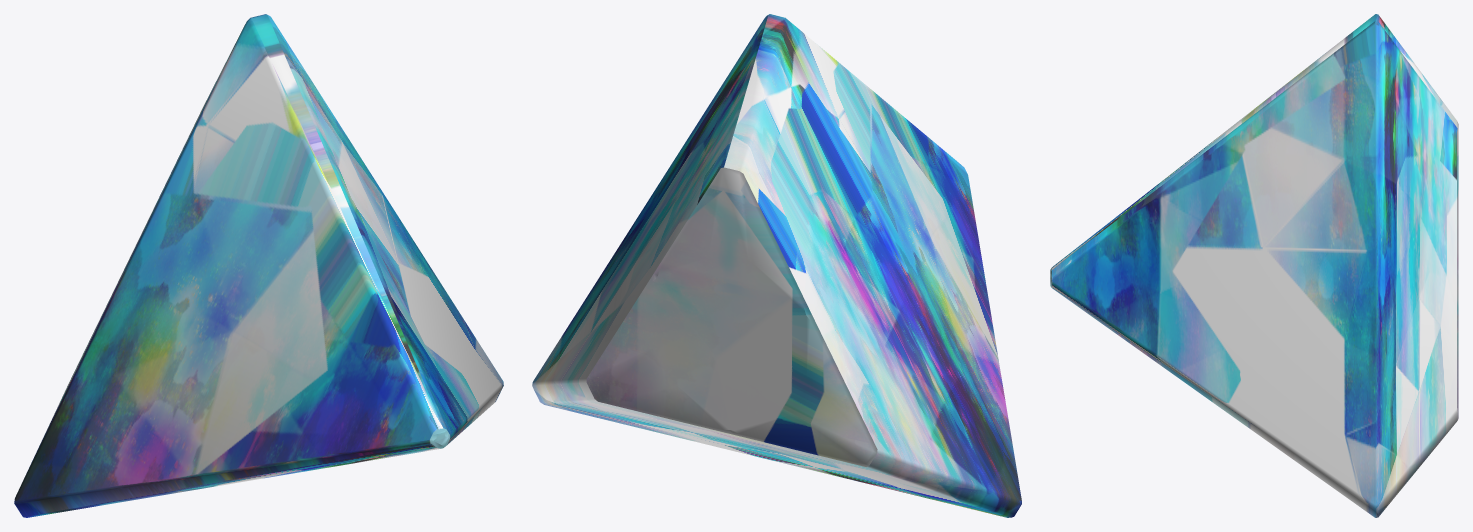
File: Jewelry Type 7.glb
The picture shows the model from 3 angles, left to right: view 1: azimuth 30°, elevation 25°; view 2: azimuth 150°, elevation 25°; view 3: azimuth 270°, elevation 25°; orthographic projection. The views are drawn at different scales.
Visible parts, largest first — view 1: Jewelry003_M_Jewelry001_0; view 2: Jewelry003_M_Jewelry001_0; view 3: Jewelry003_M_Jewelry001_0.
Part boxes in pixels (bbox=[...]): Jewelry003_M_Jewelry001_0: bbox=[14, 14, 503, 517]; Jewelry003_M_Jewelry001_0: bbox=[532, 14, 1021, 517]; Jewelry003_M_Jewelry001_0: bbox=[1050, 14, 1458, 517].
Size of the model in its own units: 0.7884 by 0.6854 by 0.6368.
1 material, 1 textured.
